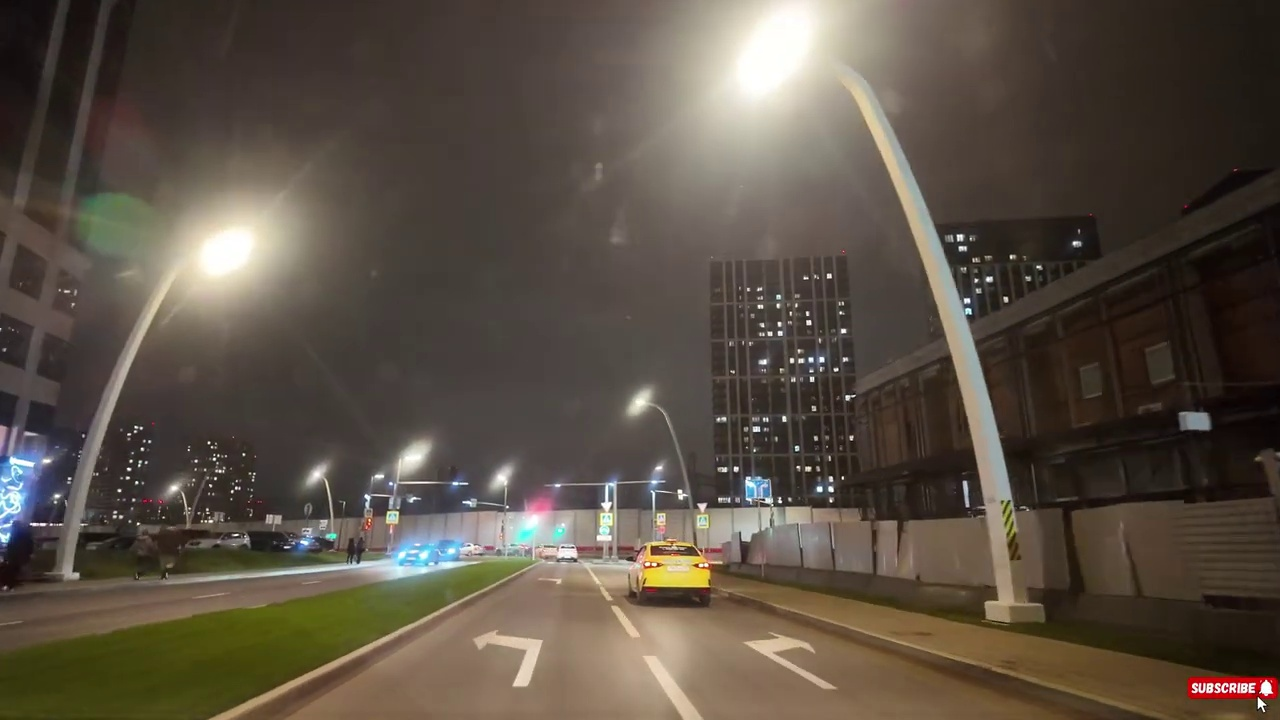acesa: (728, 8, 838, 108), (192, 224, 262, 285), (619, 384, 658, 425), (393, 437, 432, 477), (302, 460, 329, 491)
